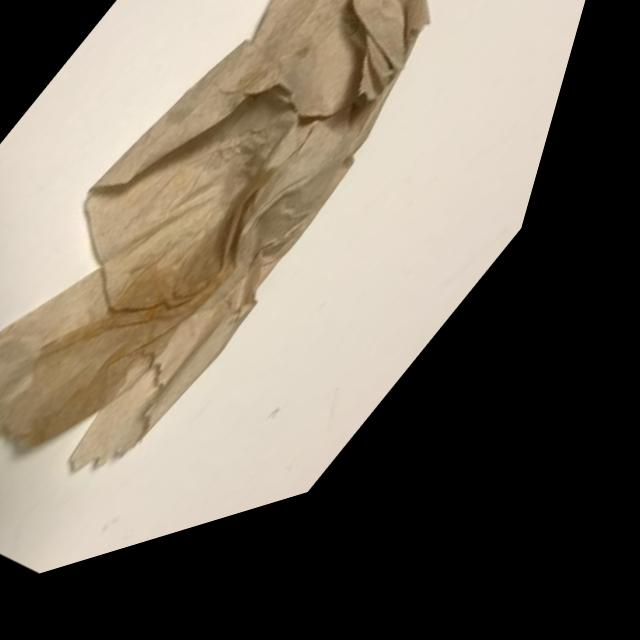trash: (0, 0, 597, 636)
